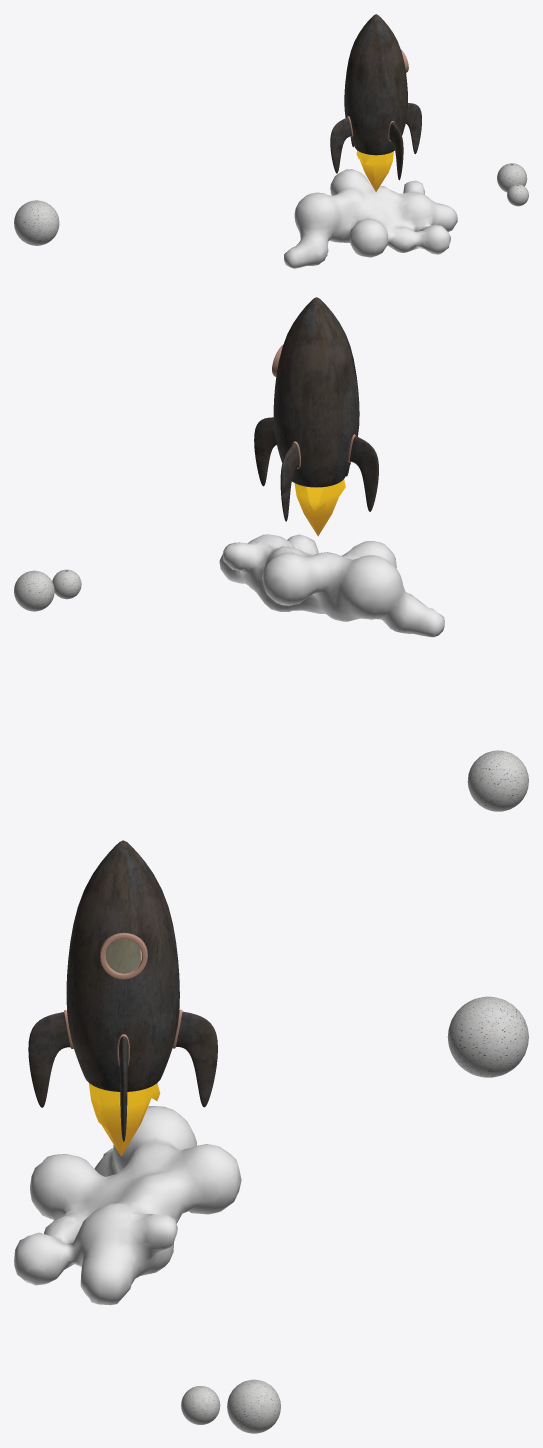
The model's file is rocket.glb.
3 renders of one model, top to bottom at view 1: azimuth 30°, elevation 25°; view 2: azimuth 150°, elevation 25°; view 3: azimuth 270°, elevation 25°, orthographic. The views are drawn at different scales.
Visible parts, largest first — view 1: smoke, rocket, spheres; view 2: rocket, smoke, spheres; view 3: rocket, smoke, spheres.
Part boxes in pixels (x1,y1,x2,y2): smoke: (284, 169, 457, 268); rocket: (330, 14, 421, 191); spheres: (14, 163, 528, 245); rocket: (254, 297, 378, 536); smoke: (219, 534, 444, 637); spheres: (14, 569, 528, 811); rocket: (28, 840, 217, 1156); smoke: (14, 1106, 241, 1305); spheres: (181, 996, 528, 1433).
Size of the model in its own units: 2.58 by 1.38 by 1.46.
5 materials, 3 textured.
